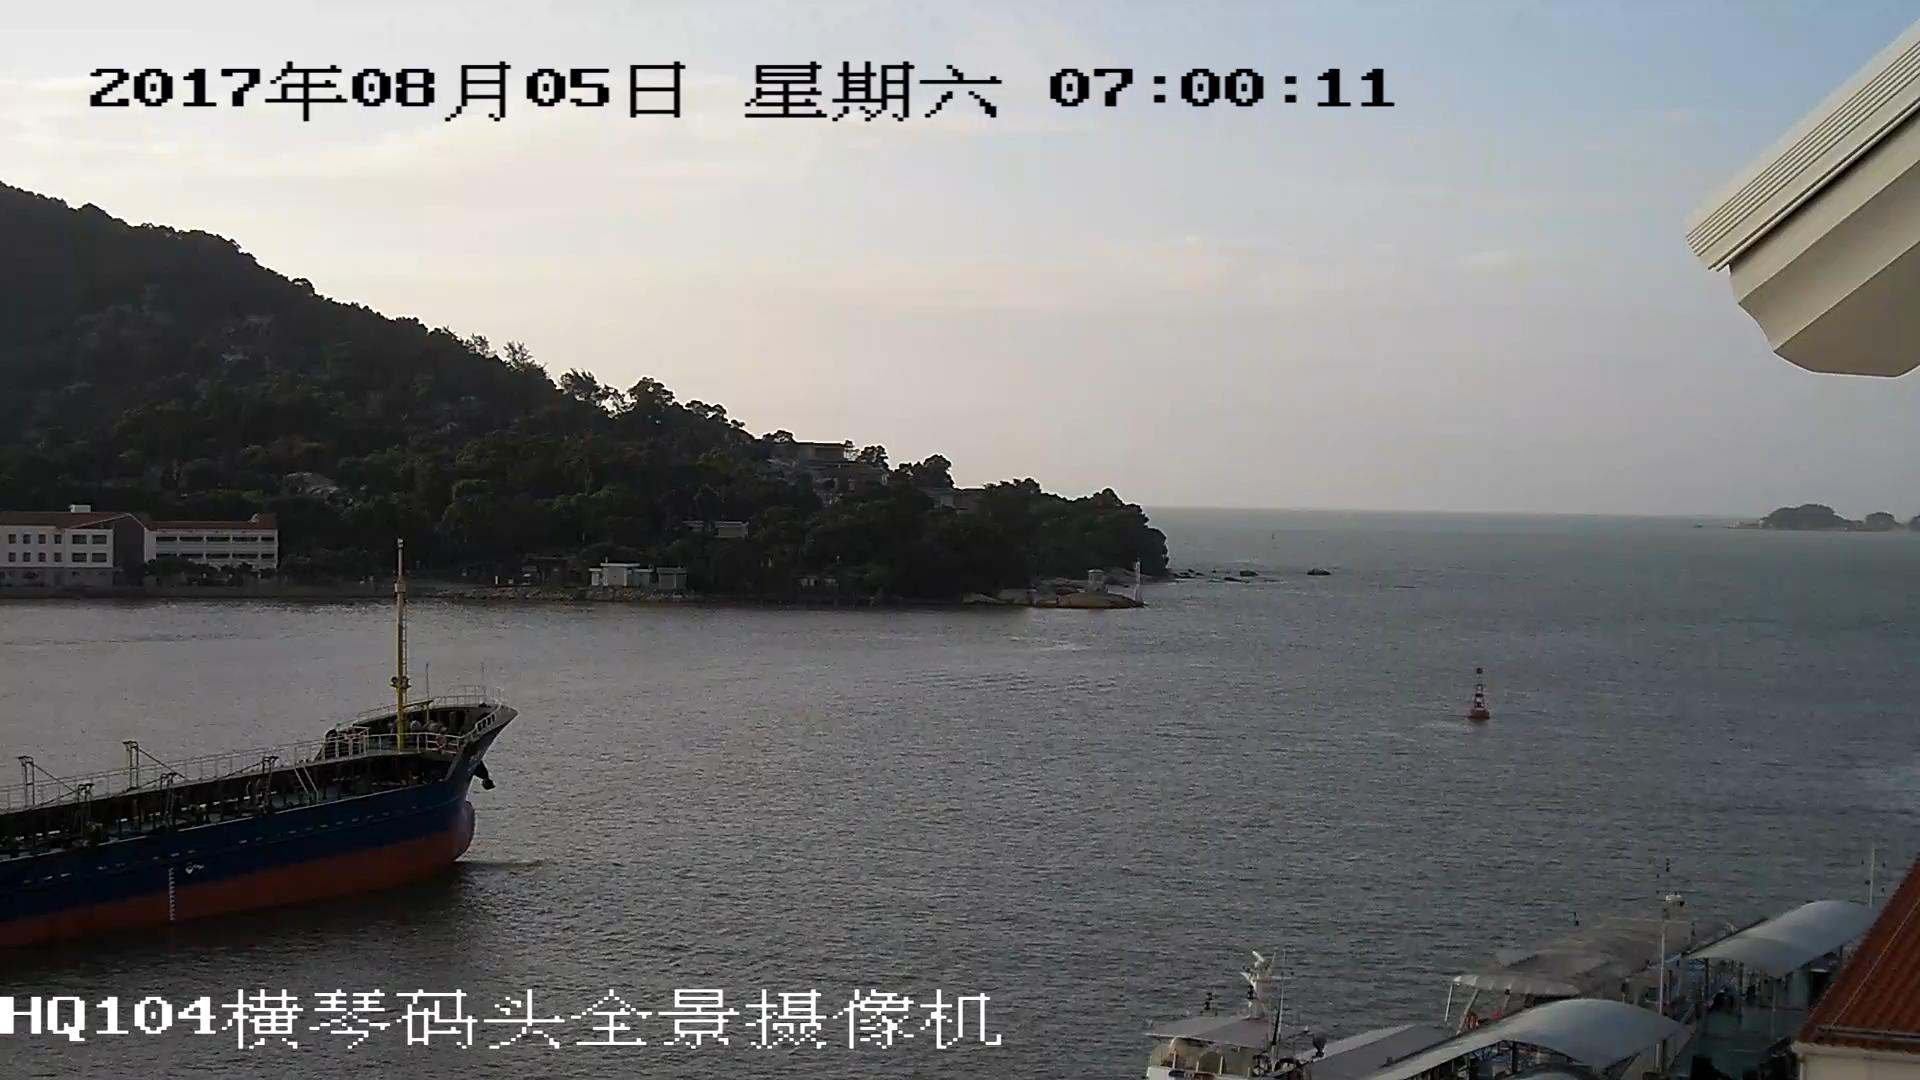general cargo ship: (1, 545, 529, 986)
